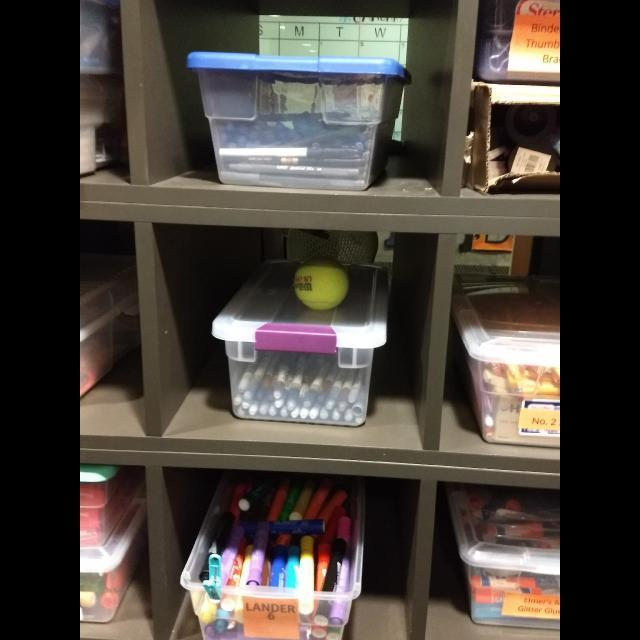tennis-ball: (293, 255, 352, 314)
